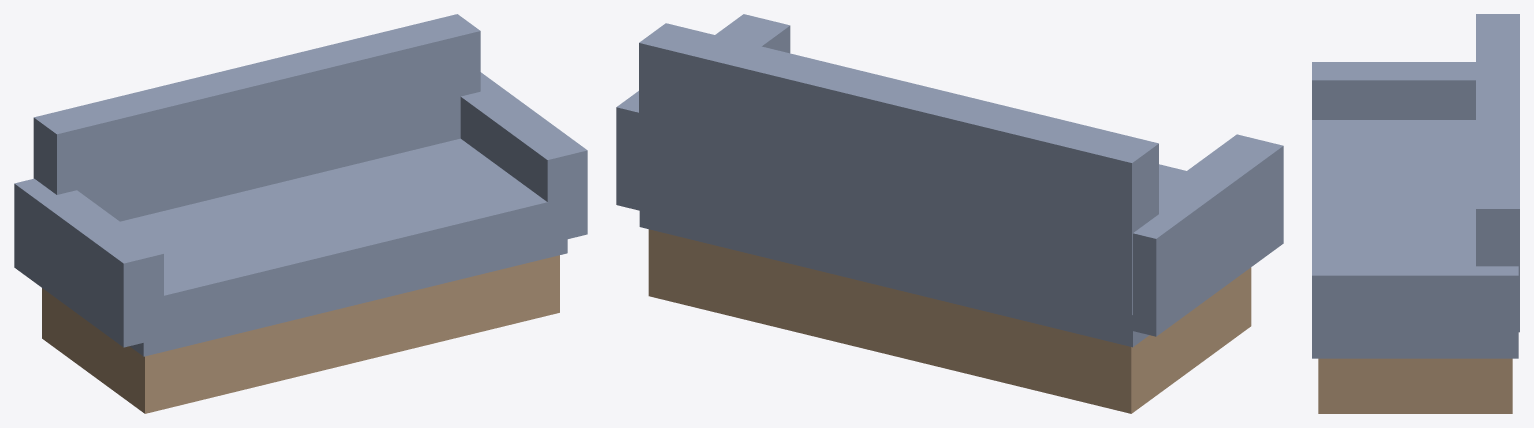
File: sofa.glb
3 renders of one model, left to right at view 1: azimuth 30°, elevation 25°; view 2: azimuth 150°, elevation 25°; view 3: azimuth 270°, elevation 25°, orthographic. The views are drawn at different scales.
Parts seen in each view (by area): view 1: sofa_Seat, sofa_Back, sofa_Plinth, sofa_Arm_L, sofa_Arm_R; view 2: sofa_Back, sofa_Plinth, sofa_Arm_L, sofa_Seat, sofa_Arm_R; view 3: sofa_Seat, sofa_Arm_R, sofa_Back, sofa_Plinth, sofa_Arm_L.
Part boxes in pixels (x1=…): sofa_Seat: x1=120, y1=138, x2=567, y2=356; sofa_Back: x1=33, y1=14, x2=480, y2=221; sofa_Plinth: x1=42, y1=255, x2=559, y2=413; sofa_Arm_L: x1=14, y1=178, x2=163, y2=347; sofa_Arm_R: x1=460, y1=72, x2=587, y2=243; sofa_Back: x1=639, y1=23, x2=1158, y2=315; sofa_Plinth: x1=648, y1=229, x2=1251, y2=413; sofa_Arm_L: x1=1109, y1=134, x2=1283, y2=336; sofa_Seat: x1=639, y1=164, x2=1186, y2=347; sofa_Arm_R: x1=616, y1=14, x2=790, y2=216; sofa_Seat: x1=1312, y1=120, x2=1518, y2=358; sofa_Arm_R: x1=1312, y1=257, x2=1518, y2=354; sofa_Back: x1=1476, y1=14, x2=1519, y2=332; sofa_Plinth: x1=1318, y1=358, x2=1512, y2=413; sofa_Arm_L: x1=1312, y1=62, x2=1475, y2=119.
Bounding box in the file's own units: 2.08 × 0.94 × 0.855.
